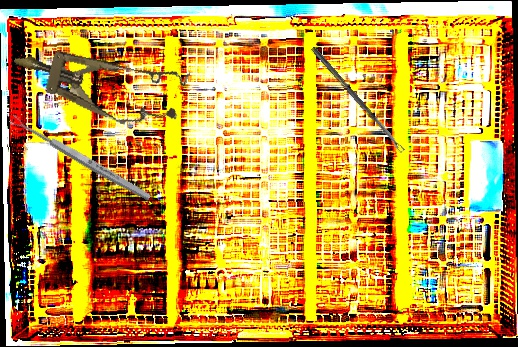Speculum: (5, 27, 191, 138)
Surgical Spoon: (8, 113, 153, 203), (310, 46, 405, 154)
